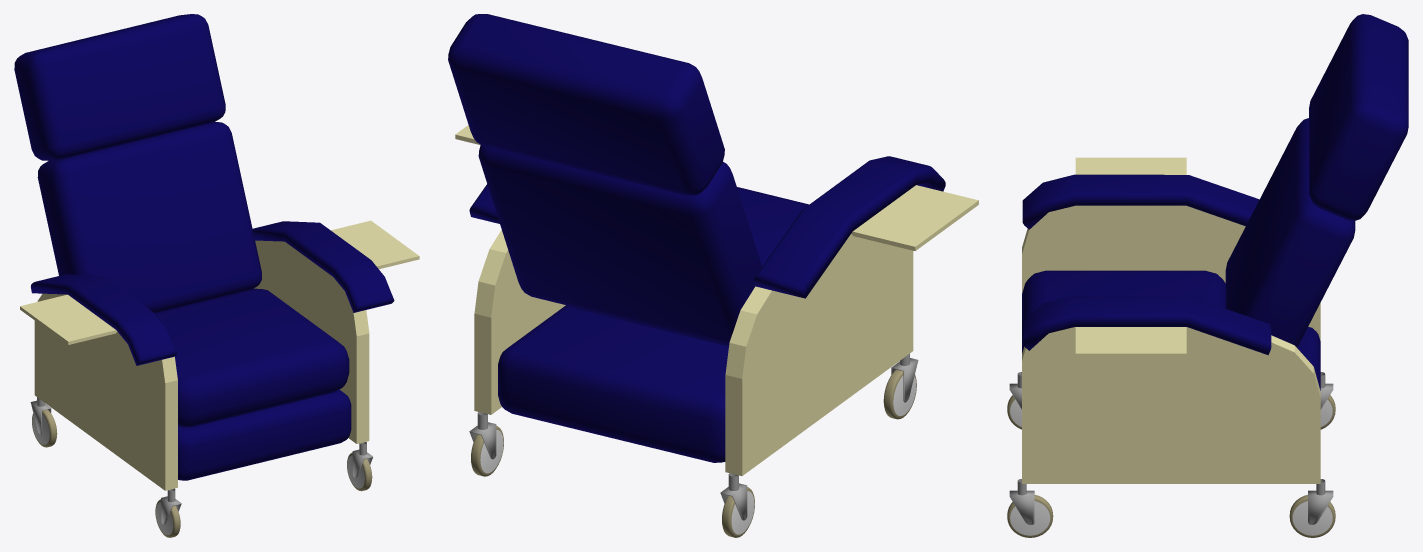
Rendered from CHA05.fbx.
The picture shows the model from 3 angles, left to right: view 1: azimuth 30°, elevation 25°; view 2: azimuth 150°, elevation 25°; view 3: azimuth 270°, elevation 25°; orthographic projection. The views are drawn at different scales.
Visible parts, largest first — view 1: CHA05; view 2: CHA05; view 3: CHA05.
Part boxes in pixels (x1,y1,x2,y2): CHA05: (14, 14, 419, 537); CHA05: (448, 14, 978, 537); CHA05: (1007, 14, 1408, 537).
Size of the model in its own units: 110 by 111 by 95.27.
